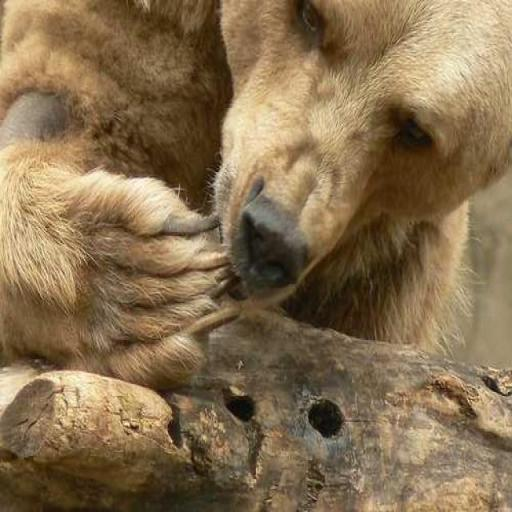Bear: (0, 0, 510, 389)
